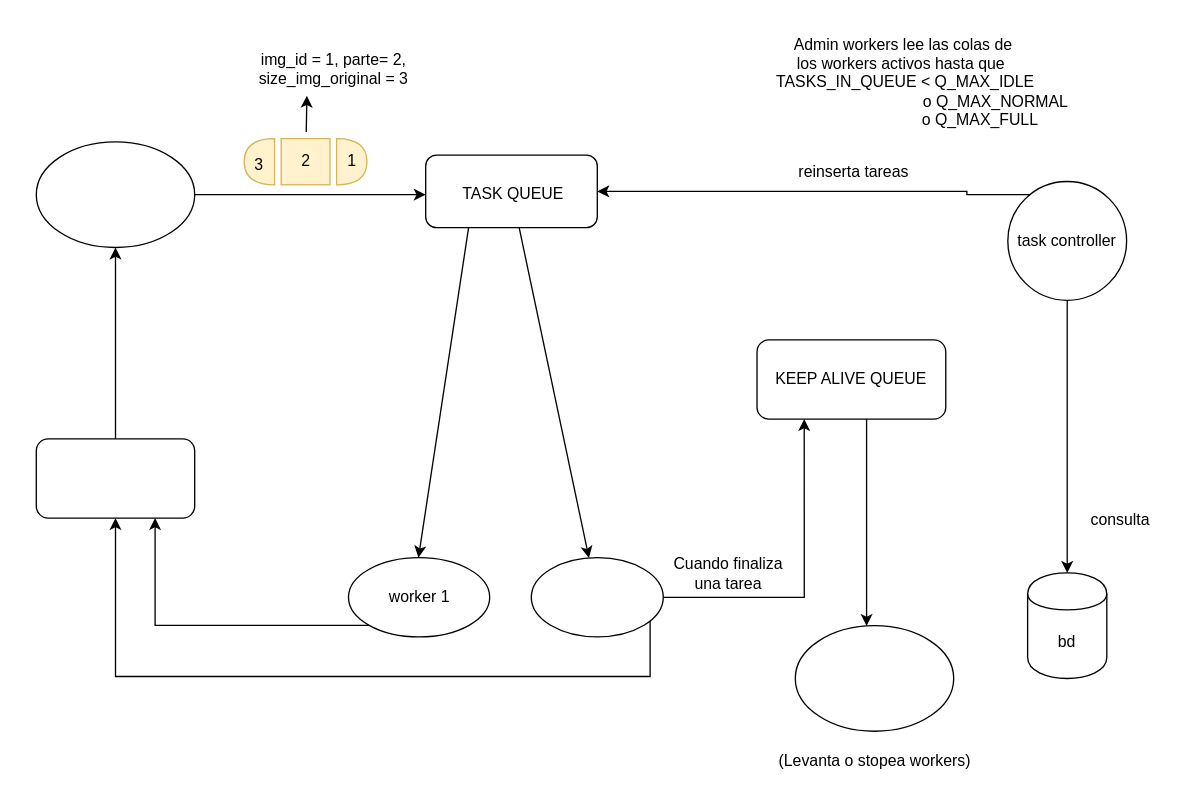
The diagram is 1181 pixels wide and 796 high, and some of its shapes have lost their labels. Here are the shapes that lost their labels. From the top down, the centre of each, then its label:
At pixel 115 194: "GeoImage Service".
At pixel 115 478: "RESULTS QUEUE".
At pixel 596 596: "worker 2".
At pixel 874 677: "admin workers".
